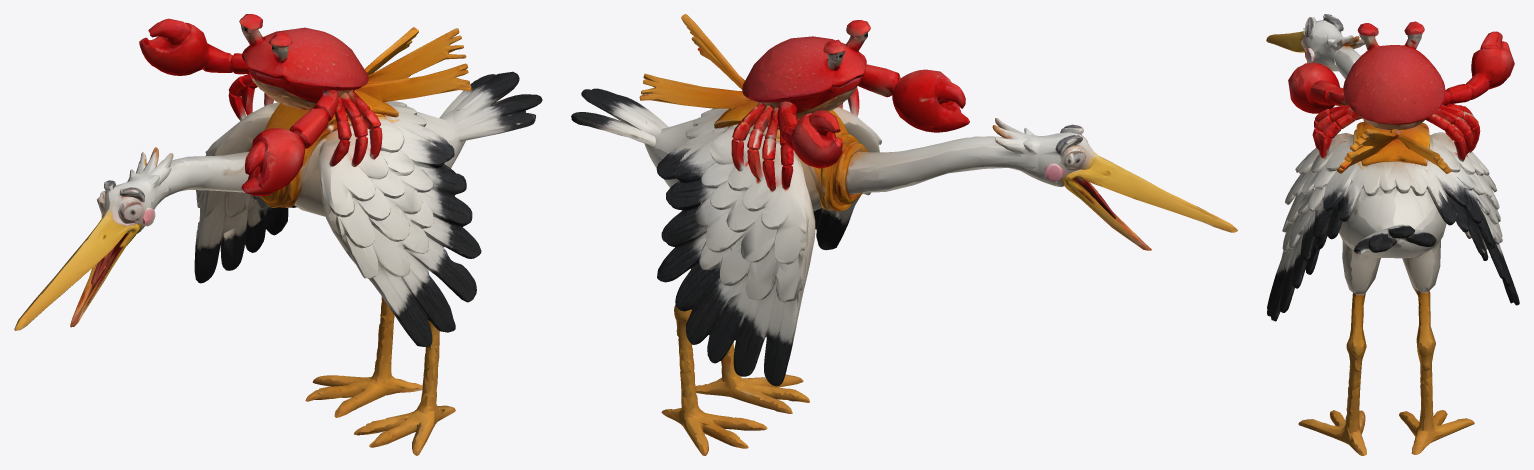
3 views of the same model, side by side, from view 1: azimuth 30°, elevation 25°; view 2: azimuth 150°, elevation 25°; view 3: azimuth 270°, elevation 25° (orthographic). The views are drawn at different scales.
Parts seen in each view (by area): view 1: naikBangau; view 2: naikBangau; view 3: naikBangau.
Part boxes in pixels (x1,y1,x2,y2): naikBangau: (14,14,542,455); naikBangau: (571,14,1237,455); naikBangau: (1266,14,1519,455).
Bounding box in the file's own units: 1.1 × 0.7431 × 0.4736.
1 material, 1 textured.
